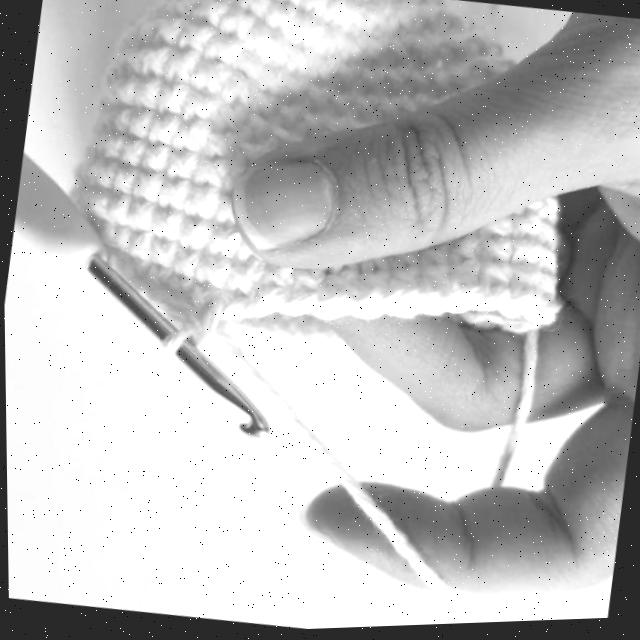sc: (273, 271, 323, 320), (244, 270, 291, 319), (444, 264, 486, 315), (498, 269, 539, 321), (468, 266, 511, 315), (522, 275, 563, 326), (219, 268, 260, 318), (313, 273, 356, 318), (347, 273, 386, 321), (416, 267, 449, 320), (189, 58, 232, 97), (384, 270, 420, 316), (159, 46, 201, 83), (430, 17, 467, 55), (184, 285, 215, 328), (143, 263, 170, 312), (171, 121, 210, 154), (205, 224, 239, 260), (212, 103, 248, 137), (165, 276, 190, 324), (179, 212, 209, 252), (175, 24, 215, 54), (202, 35, 243, 64), (156, 80, 188, 117), (215, 79, 254, 109), (265, 3, 299, 37), (247, 87, 280, 121), (401, 32, 437, 63), (181, 92, 218, 122), (192, 158, 230, 187), (217, 11, 255, 40), (190, 0, 228, 29), (445, 236, 478, 269), (243, 23, 275, 57), (151, 207, 181, 243), (195, 257, 229, 288), (145, 114, 179, 145), (305, 30, 342, 58), (134, 49, 166, 81), (137, 141, 170, 172), (84, 158, 118, 188), (287, 18, 321, 48), (157, 177, 188, 209), (124, 198, 154, 231), (365, 2, 394, 36), (227, 54, 263, 81), (166, 149, 198, 179), (132, 79, 162, 111), (189, 185, 217, 219), (201, 132, 235, 160), (151, 17, 185, 45), (230, 0, 273, 22), (360, 36, 391, 66), (275, 69, 303, 102), (236, 139, 278, 161), (320, 2, 350, 32), (127, 108, 154, 141), (343, 0, 370, 33), (269, 123, 306, 147), (418, 247, 451, 272), (95, 134, 123, 163), (283, 50, 312, 78), (150, 239, 176, 270), (477, 241, 508, 267), (172, 248, 199, 277), (109, 165, 138, 192), (303, 84, 330, 113), (510, 213, 537, 242), (82, 187, 108, 217), (510, 244, 540, 270), (118, 138, 143, 169), (391, 5, 418, 33), (408, 69, 434, 98), (105, 193, 128, 225), (261, 37, 288, 64), (336, 37, 363, 64), (109, 108, 136, 134), (384, 68, 412, 93), (211, 193, 231, 224), (113, 76, 134, 105), (257, 65, 278, 94), (309, 59, 335, 82), (130, 233, 151, 261), (298, 0, 332, 16), (537, 225, 557, 252), (537, 251, 555, 278), (134, 23, 155, 46), (113, 227, 132, 252), (278, 105, 299, 127), (357, 96, 377, 116)
